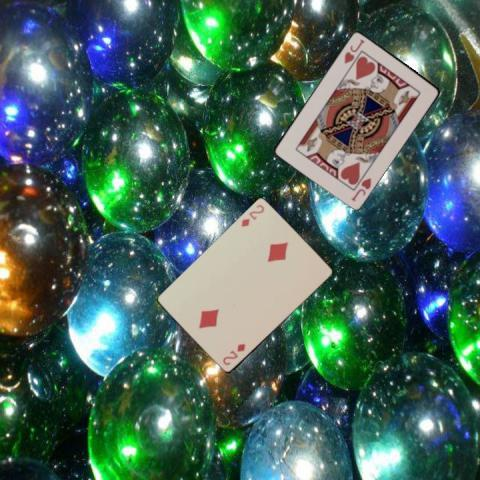2d: (238, 202, 266, 229), (219, 341, 247, 367)
Jh: (341, 35, 366, 65), (348, 174, 373, 202)
